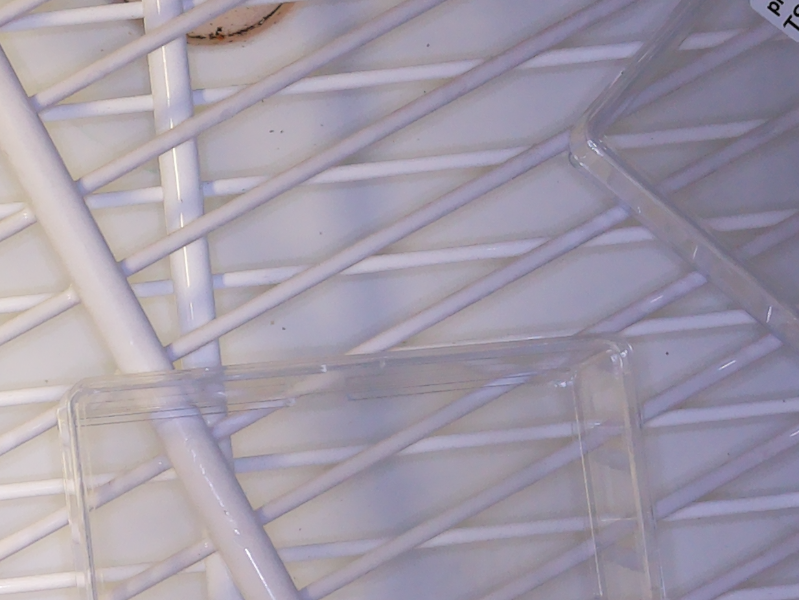plate: (55, 331, 663, 600), (568, 1, 799, 356)
